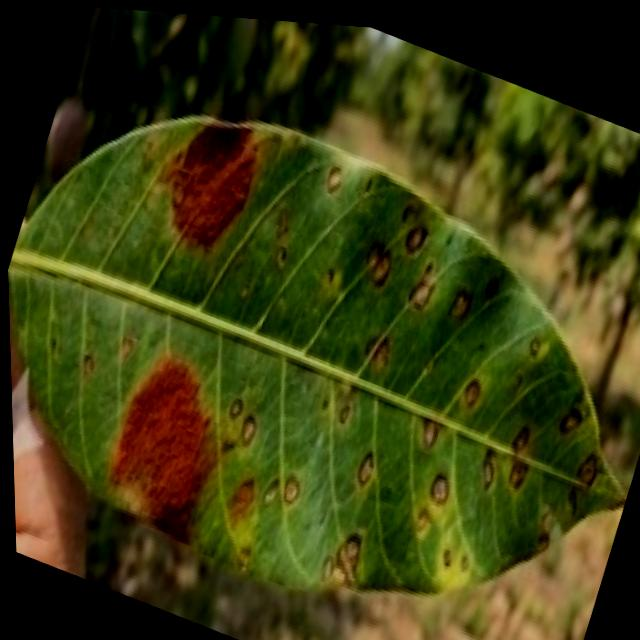Anthracnose: (298, 317, 588, 555), (336, 238, 483, 343)
